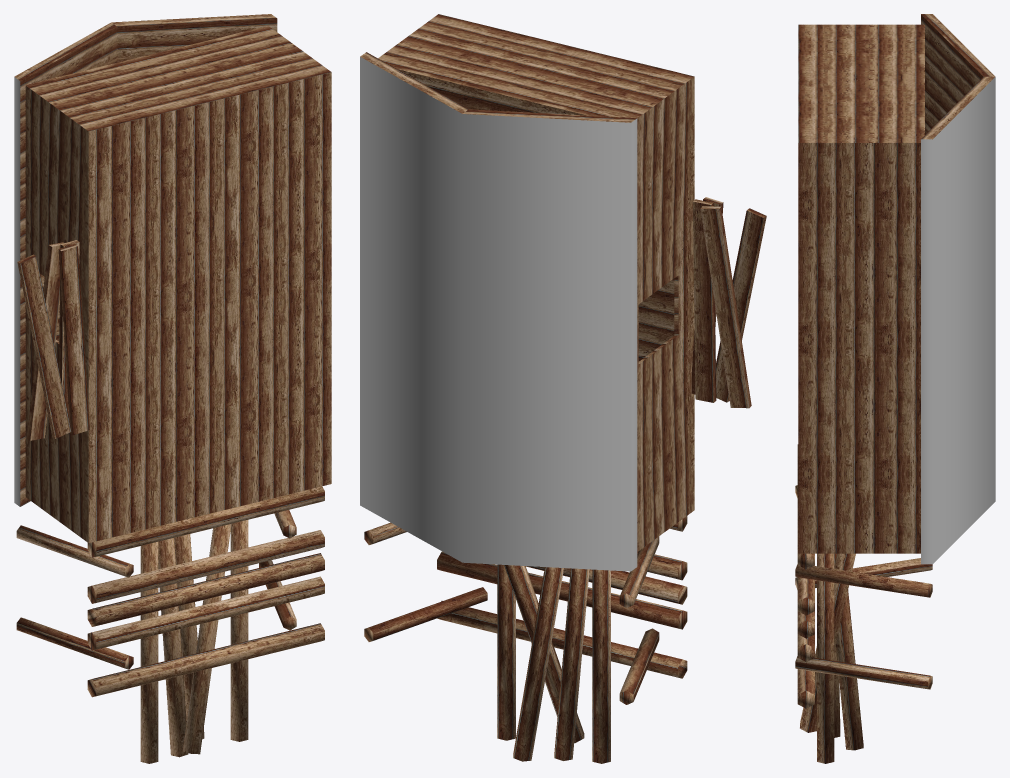
The model's file is sawmill.fbx.
3 views of the same model, side by side, from view 1: azimuth 30°, elevation 25°; view 2: azimuth 150°, elevation 25°; view 3: azimuth 270°, elevation 25° (orthographic). The views are drawn at different scales.
Parts seen in each view (by area): view 1: sawmill; view 2: sawmill; view 3: sawmill.
Boxes of the visible parts, x1=… form: sawmill: x1=14, y1=14, x2=331, y2=763; sawmill: x1=360, y1=14, x2=766, y2=763; sawmill: x1=795, y1=14, x2=995, y2=763.
Size of the model in its own units: 10.81 by 21.64 by 5.89.
